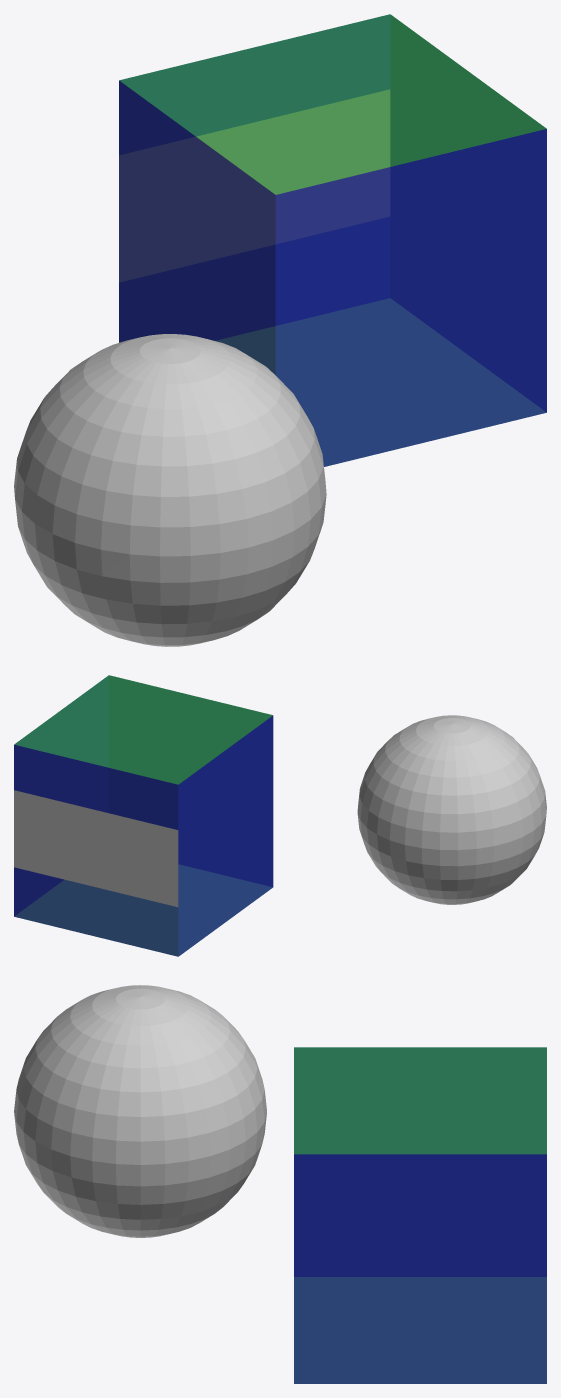
The picture shows the model from 3 angles, top to bottom: view 1: azimuth 30°, elevation 25°; view 2: azimuth 150°, elevation 25°; view 3: azimuth 270°, elevation 25°; orthographic projection. The views are drawn at different scales.
Visible parts, largest first — view 1: Cube_Cube_Material1, Sphere_Sphere_None, Cube_Cube_Material2, Cube_Cube_None_footbal.png; view 2: Cube_Cube_Material1, Sphere_Sphere_None, Cube_Cube_Material2, Cube_Cube_None_footbal.png; view 3: Cube_Cube_Material1, Sphere_Sphere_None, Cube_Cube_Material2.
Part boxes in pixels (<box>): Cube_Cube_Material1: <box>119,14,546,466</box>; Sphere_Sphere_None: <box>14,334,326,646</box>; Cube_Cube_Material2: <box>119,14,546,194</box>; Cube_Cube_None_footbal.png: <box>119,89,390,282</box>; Cube_Cube_Material1: <box>14,675,273,956</box>; Sphere_Sphere_None: <box>357,715,546,904</box>; Cube_Cube_Material2: <box>14,675,272,784</box>; Cube_Cube_None_footbal.png: <box>14,790,178,907</box>; Cube_Cube_Material1: <box>294,1047,546,1383</box>; Sphere_Sphere_None: <box>14,985,266,1237</box>; Cube_Cube_Material2: <box>294,1047,546,1154</box>.
Bounding box in the file's own units: 4.48 × 2.25 × 4.21.
